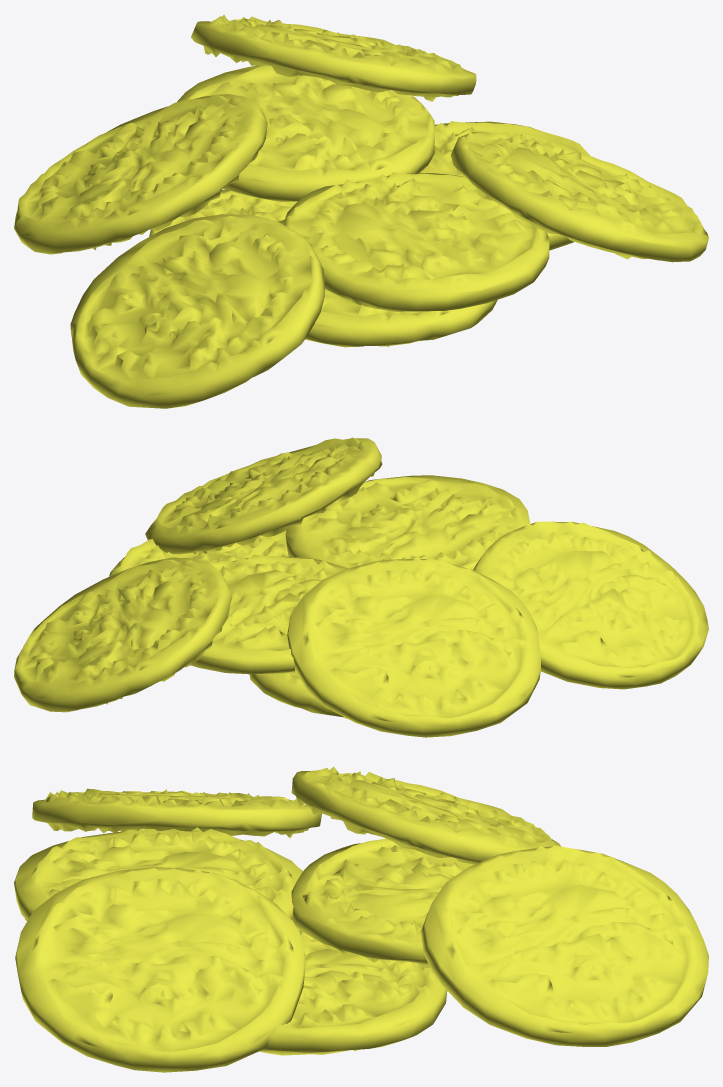
File: CoinPile.fbx
The picture shows the model from 3 angles, top to bottom: view 1: azimuth 30°, elevation 25°; view 2: azimuth 150°, elevation 25°; view 3: azimuth 270°, elevation 25°; orthographic projection. The views are drawn at different scales.
Visible parts, largest first — view 1: CoinPile; view 2: CoinPile; view 3: CoinPile.
Boxes of the visible parts, bbox=[...] form: CoinPile: bbox=[14, 14, 708, 408]; CoinPile: bbox=[14, 437, 708, 737]; CoinPile: bbox=[14, 766, 708, 1072].
Bounding box in the file's own units: 23.79 × 5.6 × 24.2.
